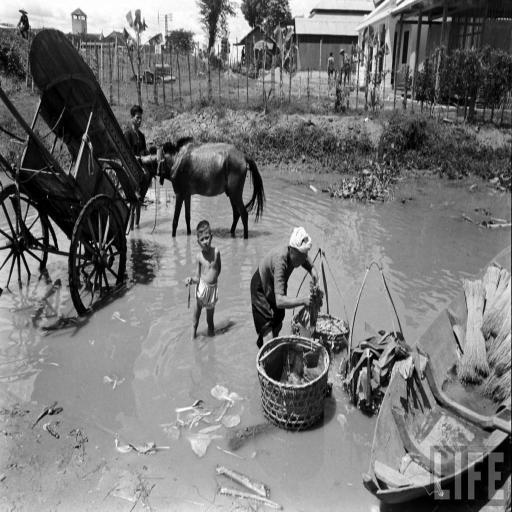horse: (148, 137, 267, 242)
